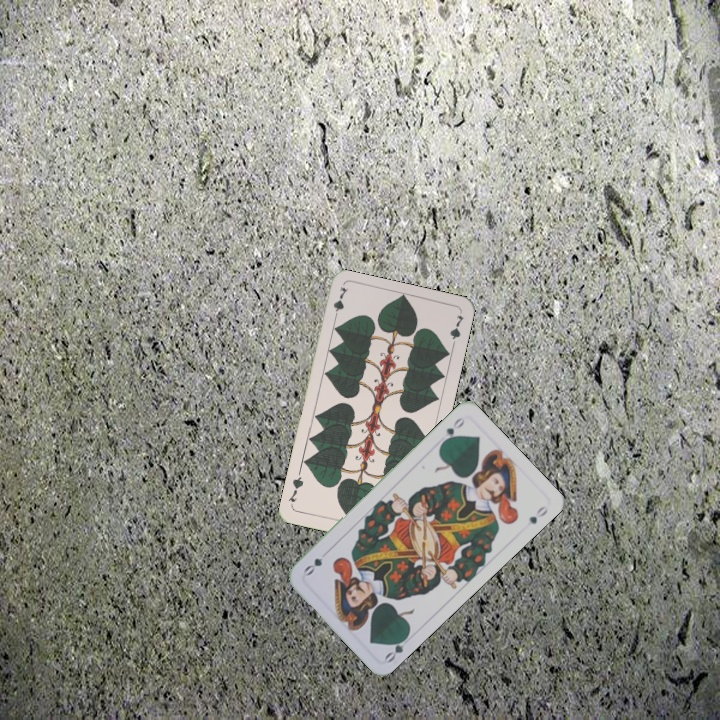G7: (329, 283, 351, 324)
GO: (381, 630, 412, 665), (437, 413, 467, 447)
